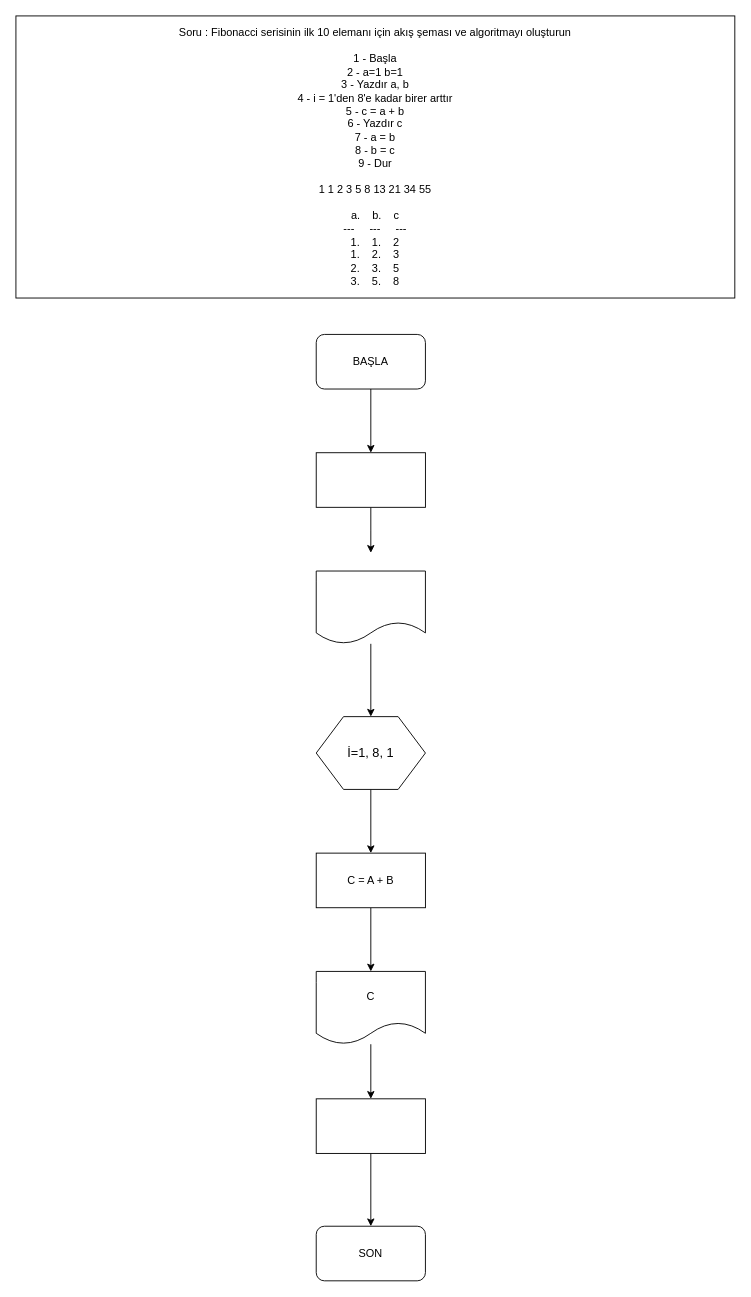
This 751x1297 diagram has some shape labels left out. The shapes that lost their labels are listed below. From the top down, each one's centre as x and y in pixels, then its label:
At (370,479): "A = 1 B = 1".
At (370,607): "A, B".
At (370,1125): "A = B B = C".
